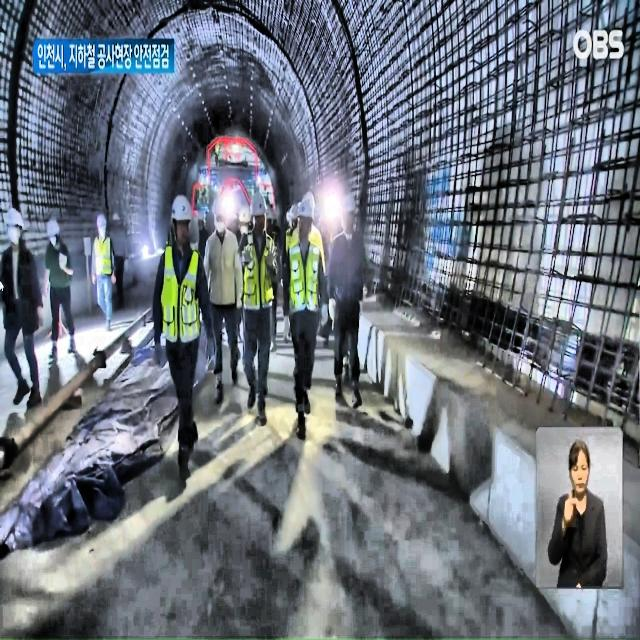safety_helmet: (170, 194, 194, 226), (250, 192, 268, 218), (3, 207, 24, 229), (338, 193, 358, 216), (298, 201, 314, 221), (212, 196, 227, 216), (46, 218, 59, 237), (302, 191, 316, 208), (238, 205, 250, 224), (288, 205, 300, 218), (96, 214, 107, 228), (110, 211, 122, 222), (266, 207, 274, 220), (197, 211, 204, 221)
safety_jacket: (160, 244, 202, 344), (286, 240, 321, 319), (242, 232, 274, 312), (94, 235, 112, 277), (285, 229, 295, 257)
